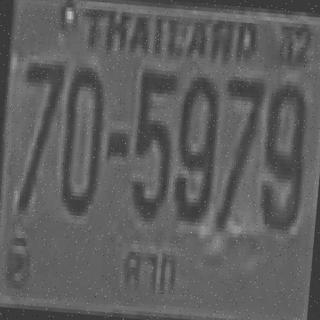N00: (58, 62, 106, 213)
N05: (128, 64, 176, 219)
N07: (12, 56, 63, 211), (213, 74, 264, 229)
N09: (256, 80, 310, 227), (170, 72, 220, 219)
P69: (118, 241, 181, 297)
